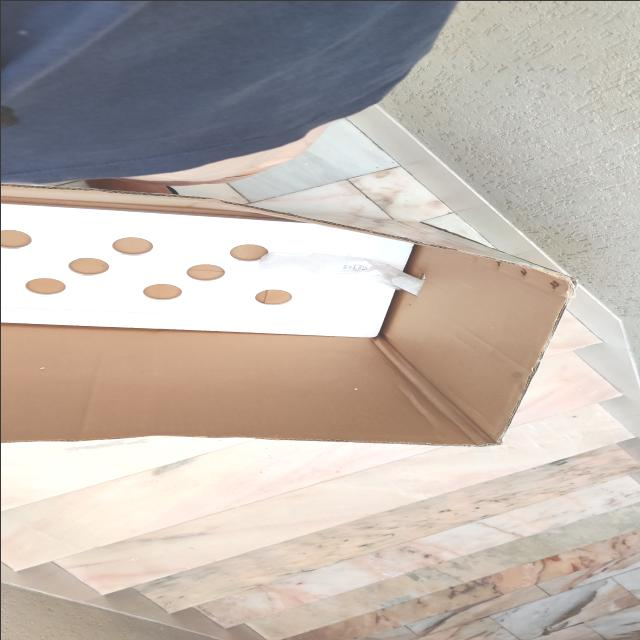Corrugated carton: (1, 182, 576, 447)
Styrofoam piece: (1, 203, 414, 337)
